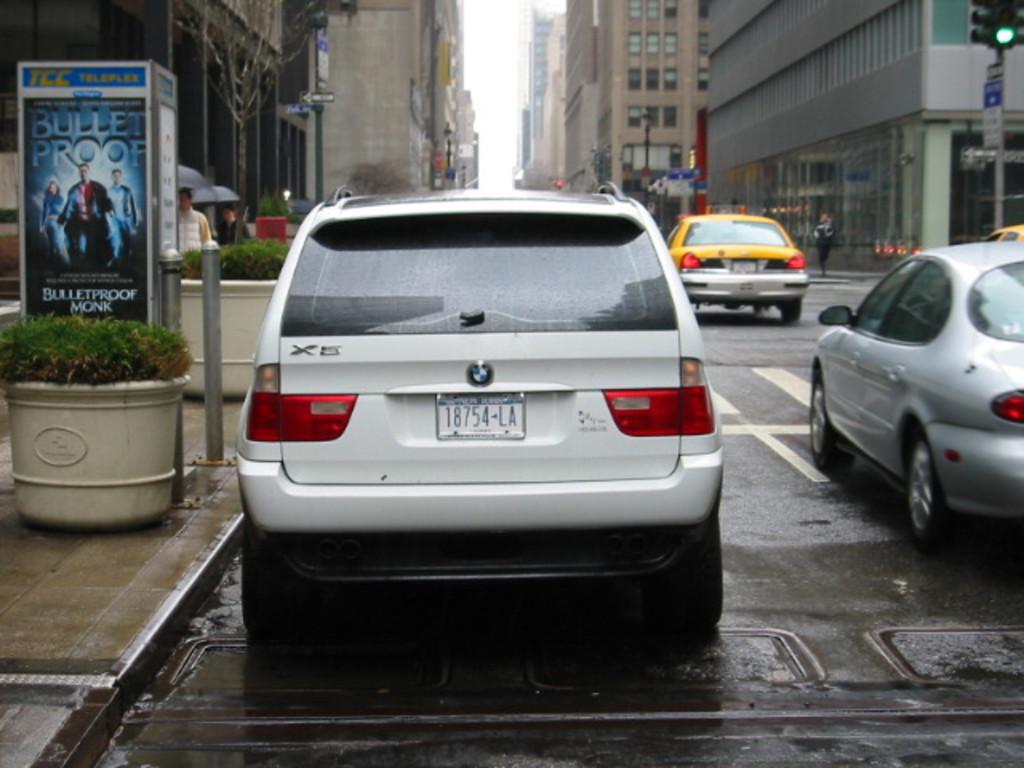taxi: (665, 206, 813, 326)
